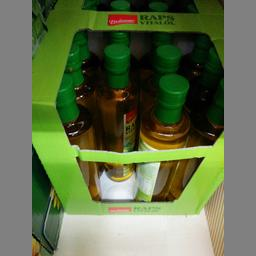oil: (135, 73, 190, 200), (92, 44, 134, 180)
